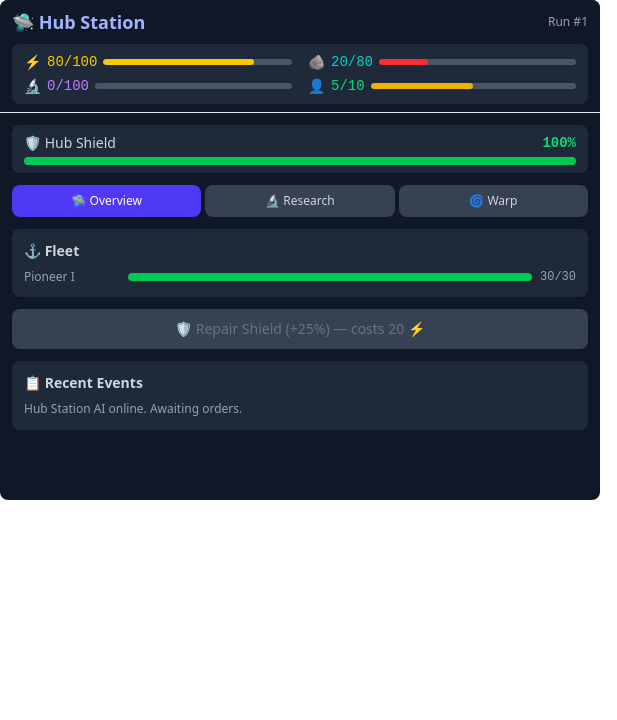
Test: HubStation › can switch to the Research tab
The width and height of the screenshot is (617, 720).
Click the button "🔬 Research".
click(300, 201)  # box [205,185,395,217]
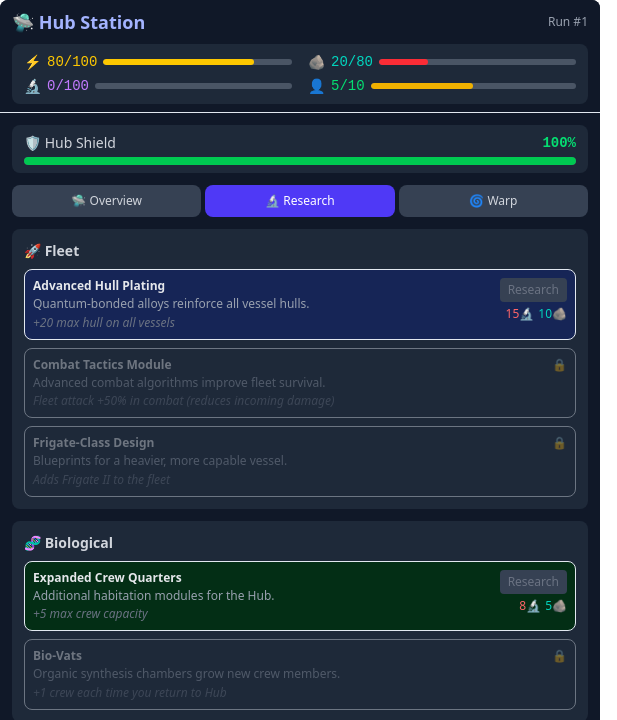
Now the text "Advanced Hull Plating" is shown, box [33,277,165,294]
